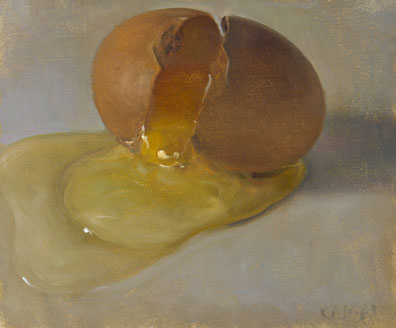egg: (2, 9, 326, 293)
